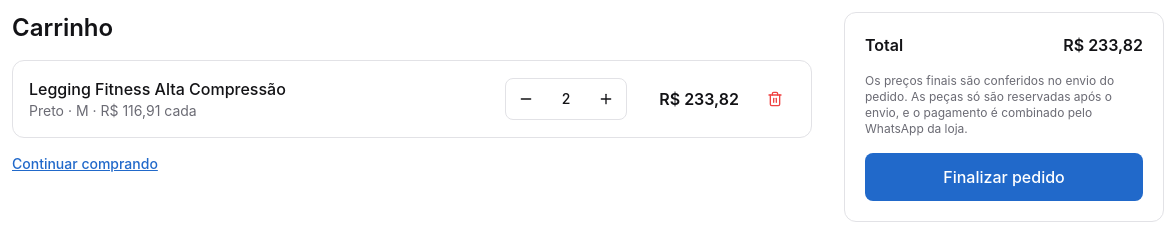
Test: CarrinhoPage › remover o item esvazia o carrinho e mostra o estado vazio
The image size is (1164, 239).
Click the button named "Remover Legging Fitness" at (775, 99), box x1=755 y1=79 x2=795 y2=119
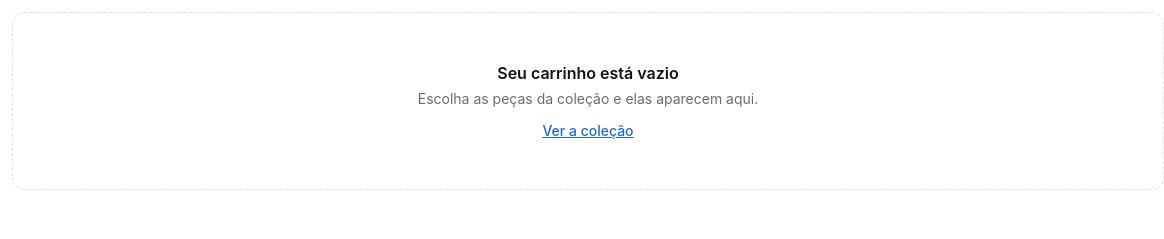
Expected: the text "Seu carrinho está vazio" is shown, x1=497 y1=63 x2=679 y2=83
